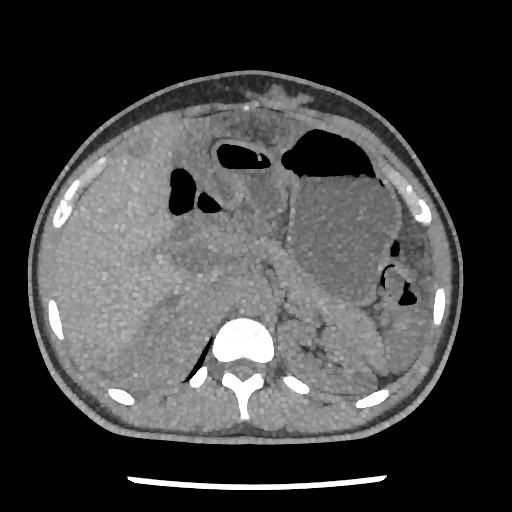Lesion: (344, 366, 380, 398)
